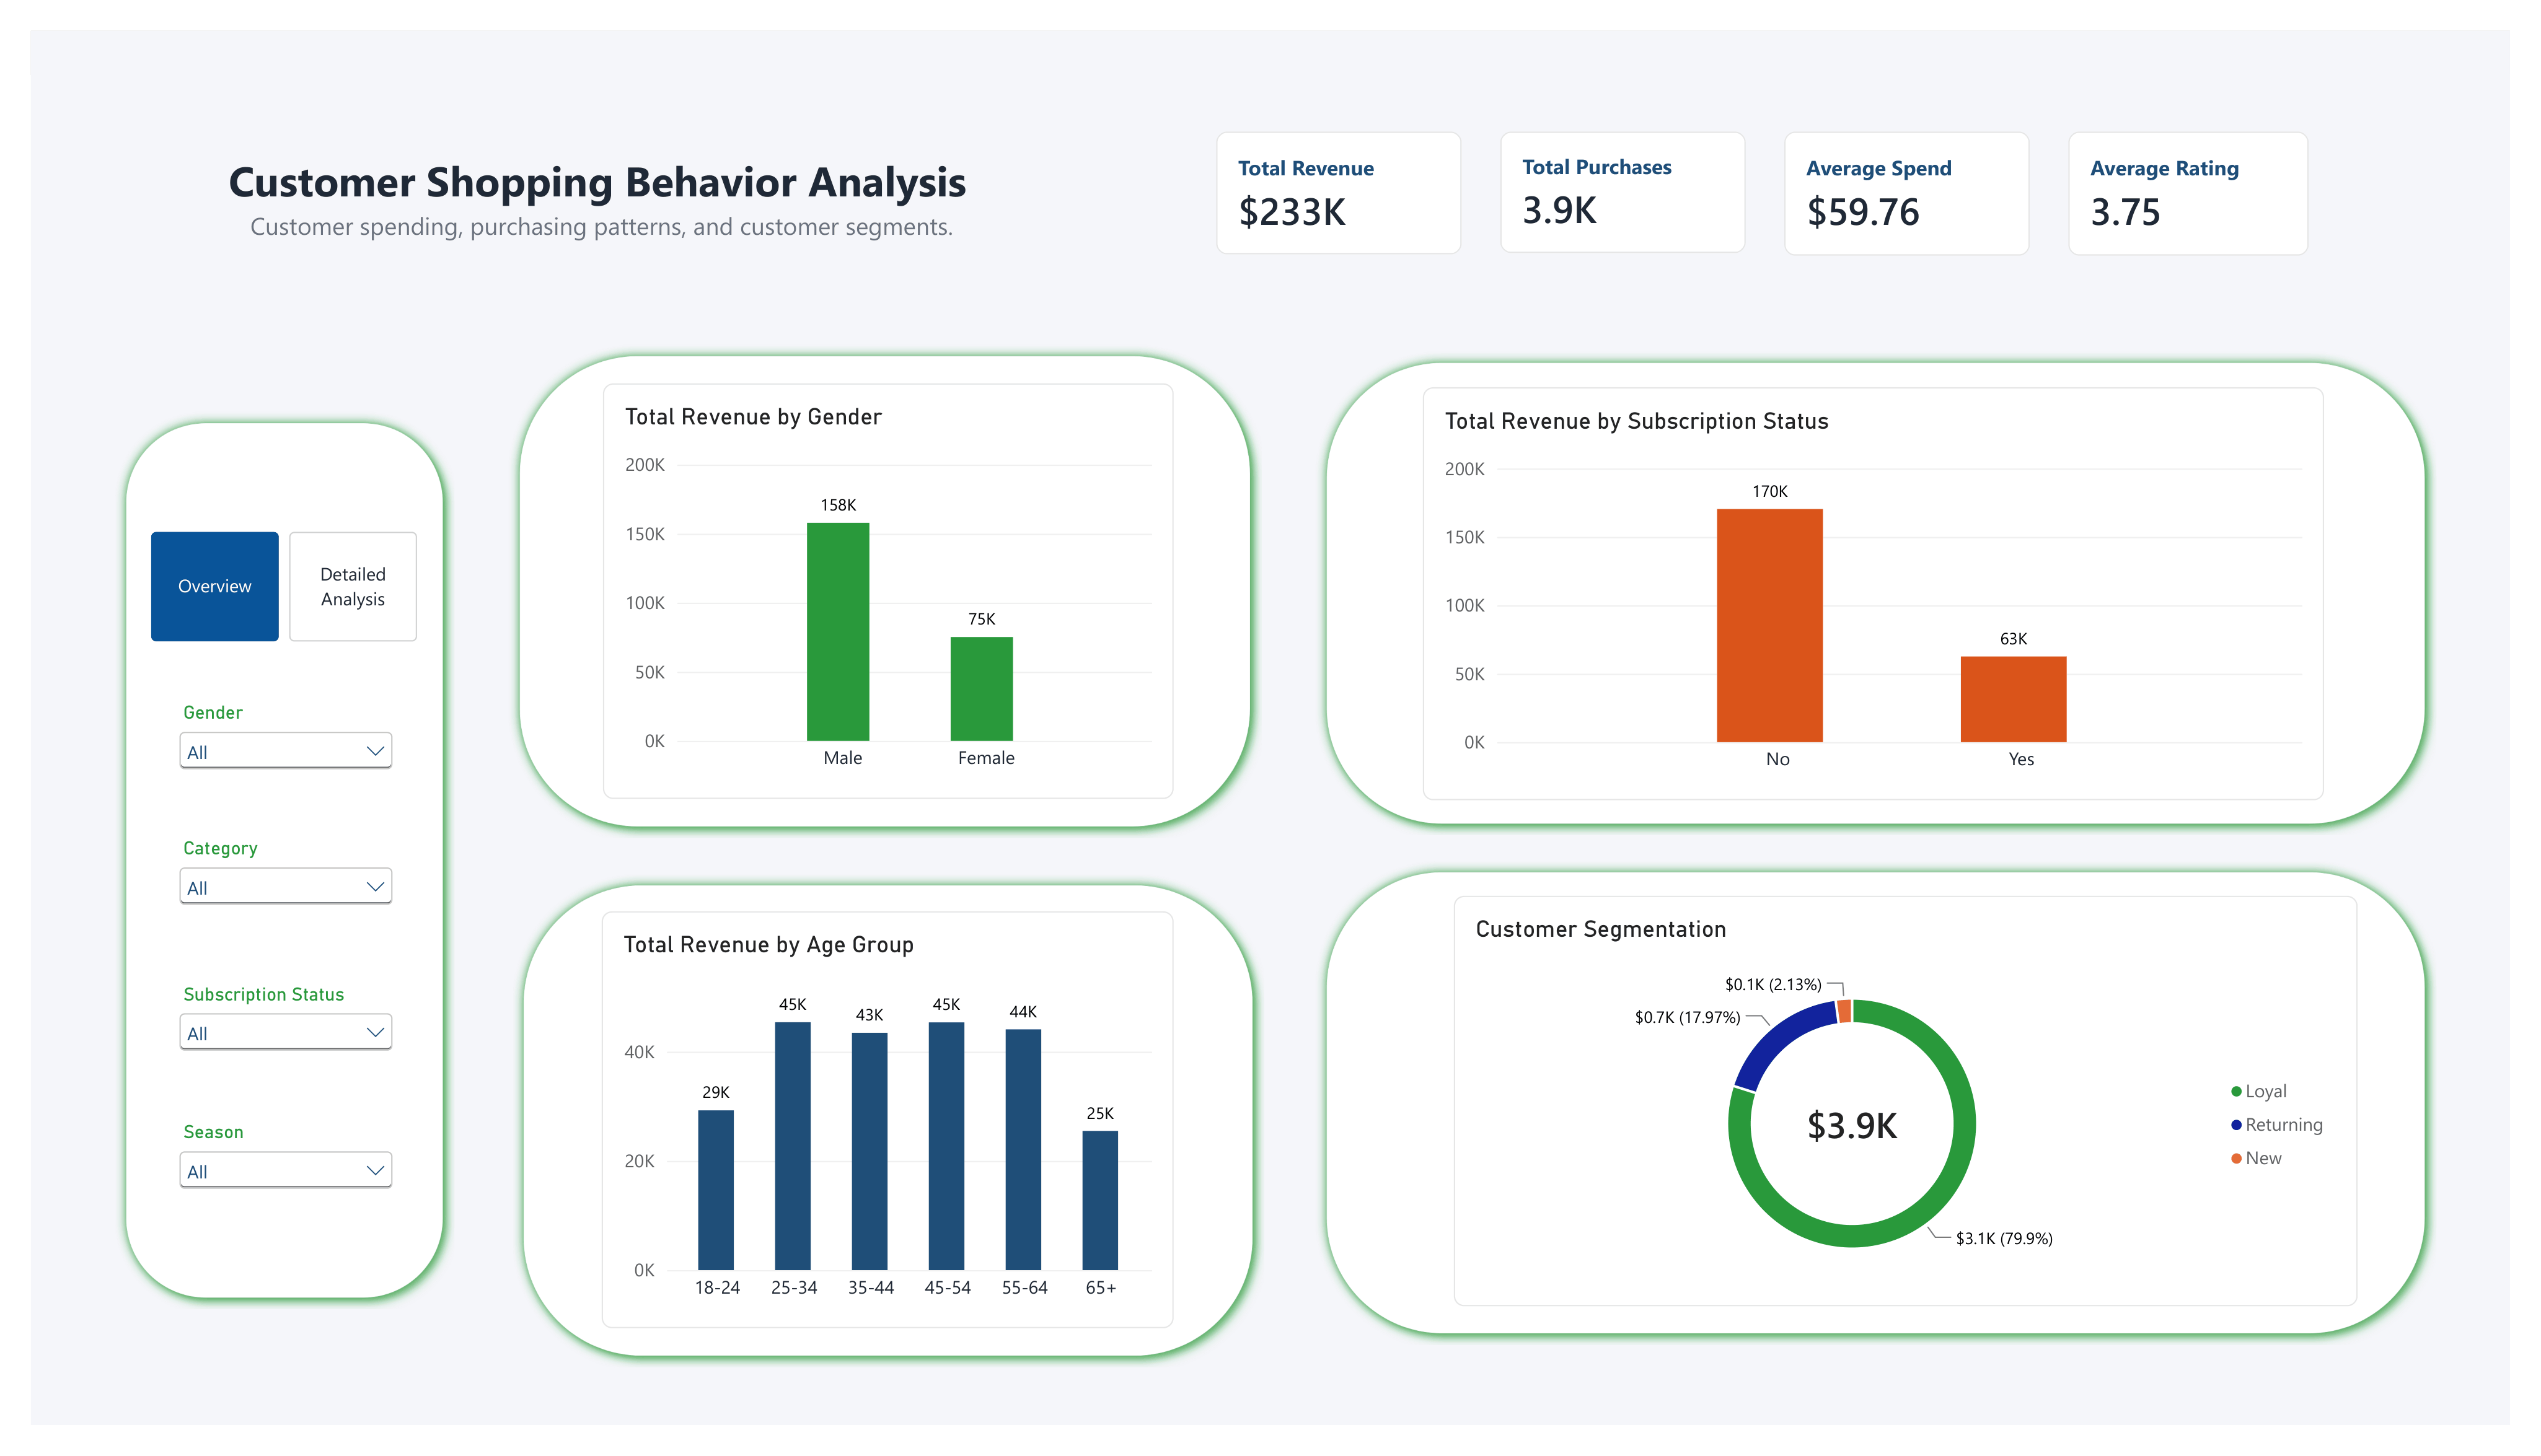

This screenshot's page, from the dashboard's own definition file:
{"tool":"powerbi","page":{"name":"Overview","canvas":[1920,1080],"ordinal":0},"visuals":[{"type":"cardVisual","fields":{"Data":["customer_shopping_behavior_clean.Total Revenue"]},"box":[917.5,77.5,190,95],"z":0},{"type":"cardVisual","fields":{"Data":["customer_shopping_behavior_clean.Total Purchases"]},"box":[1137.5,77.5,190,94],"z":1000},{"type":"cardVisual","fields":{"Data":["customer_shopping_behavior_clean.Average Spend"]},"box":[1357.5,77.5,190,96],"z":2000},{"type":"cardVisual","fields":{"Data":["customer_shopping_behavior_clean.Average Rating"]},"box":[1577.5,77.5,186,96],"z":3000},{"type":"shape","box":[370,242.5,582.5,382.5],"z":4000},{"type":"clusteredColumnChart","title":"Total Revenue by Gender","fields":{"Category":["customer_shopping_behavior_clean.gender"],"Y":["customer_shopping_behavior_clean.Total Revenue"]},"box":[442.5,272.5,442.5,322.5],"z":5000},{"type":"shape","box":[65,295,262.5,695],"z":6000},{"type":"pageNavigator","box":[92.5,387.5,207.5,85],"z":7000},{"type":"slicer","title":"Gender","fields":{"Values":["customer_shopping_behavior_clean.gender"]},"box":[110,520,175,87.5],"z":8000},{"type":"slicer","title":"Category","fields":{"Values":["customer_shopping_behavior_clean.category"]},"box":[110,625,175,67.5],"z":9000},{"type":"slicer","title":"Subscription Status","fields":{"Values":["customer_shopping_behavior_clean.subscription_status"]},"box":[110,737.5,175,52.5],"z":10000},{"type":"slicer","title":"Season","fields":{"Values":["customer_shopping_behavior_clean.season"]},"box":[110,845,175,72.5],"z":11000},{"type":"shape","box":[995,247.5,867.5,375],"z":12000},{"type":"textbox","box":[152.5,92.5,577.5,45],"z":13000},{"type":"textbox","box":[170,137.5,545,32.5],"z":14000},{"type":"shape","box":[372.5,652.5,582.5,382.5],"z":15000},{"type":"shape","box":[995,642.5,867.5,375],"z":16000},{"type":"clusteredColumnChart","title":"Total Revenue by Age Group","fields":{"Category":["customer_shopping_behavior_clean.age_group"],"Y":["customer_shopping_behavior_clean.Total Revenue"]},"box":[442,682,442.5,322.5],"z":17000},{"type":"clusteredColumnChart","title":"Total Revenue by Subscription Status","fields":{"Category":["customer_shopping_behavior_clean.subscription_status"],"Y":["customer_shopping_behavior_clean.Total Revenue"]},"box":[1078,276,698,320],"z":18000},{"type":"donutChart","title":"Customer Segmentation","fields":{"Category":["CustomerData.Customer Segment"],"Y":["customer_shopping_behavior_clean.Total Purchases"]},"box":[1102,670,700,318],"z":19000}]}

Visuals, with their boxes on the page's 1920x1080 design canvas (x1, y1, x2, y2). These are canvas units, not pixel positions in the 2541x1456 screenshot, which may show the page scaled, cropped or inside an application window:
cardVisual - customer_shopping_behavior_clean.Total Revenue: bbox=(918, 78, 1108, 172)
cardVisual - customer_shopping_behavior_clean.Total Purchases: bbox=(1138, 78, 1328, 172)
cardVisual - customer_shopping_behavior_clean.Average Spend: bbox=(1358, 78, 1548, 174)
cardVisual - customer_shopping_behavior_clean.Average Rating: bbox=(1578, 78, 1764, 174)
shape: bbox=(370, 242, 952, 625)
"Total Revenue by Gender" clusteredColumnChart: bbox=(442, 272, 885, 595)
shape: bbox=(65, 295, 328, 990)
pageNavigator: bbox=(92, 388, 300, 472)
"Gender" slicer: bbox=(110, 520, 285, 608)
"Category" slicer: bbox=(110, 625, 285, 692)
"Subscription Status" slicer: bbox=(110, 738, 285, 790)
"Season" slicer: bbox=(110, 845, 285, 918)
shape: bbox=(995, 248, 1862, 622)
textbox: bbox=(152, 92, 730, 138)
textbox: bbox=(170, 138, 715, 170)
shape: bbox=(372, 652, 955, 1035)
shape: bbox=(995, 642, 1862, 1018)
"Total Revenue by Age Group" clusteredColumnChart: bbox=(442, 682, 884, 1004)
"Total Revenue by Subscription Status" clusteredColumnChart: bbox=(1078, 276, 1776, 596)
"Customer Segmentation" donutChart: bbox=(1102, 670, 1802, 988)
